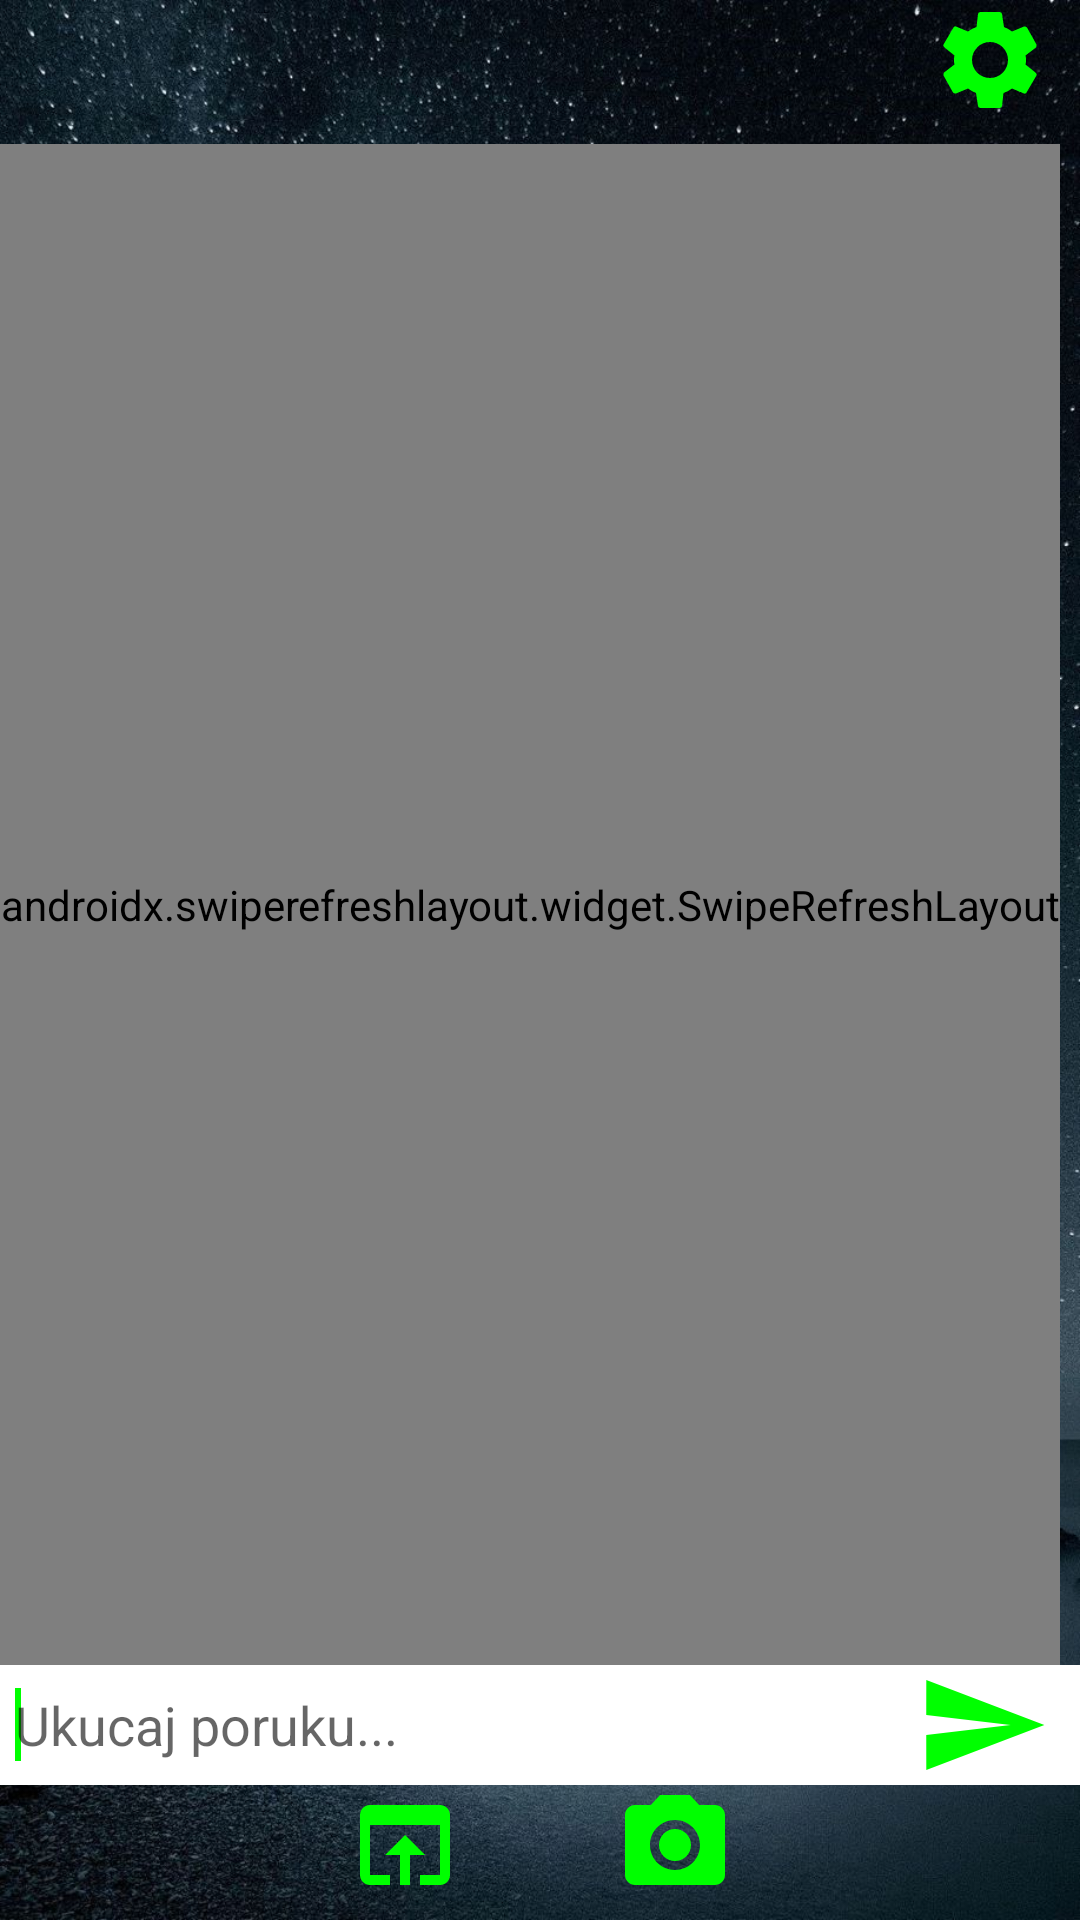

Named icons in this screenshot (1080px×1920px) and their centers, (x,y):
dugme za podesavanja: (990,67)
dugme za slikanje: (675,1845)
